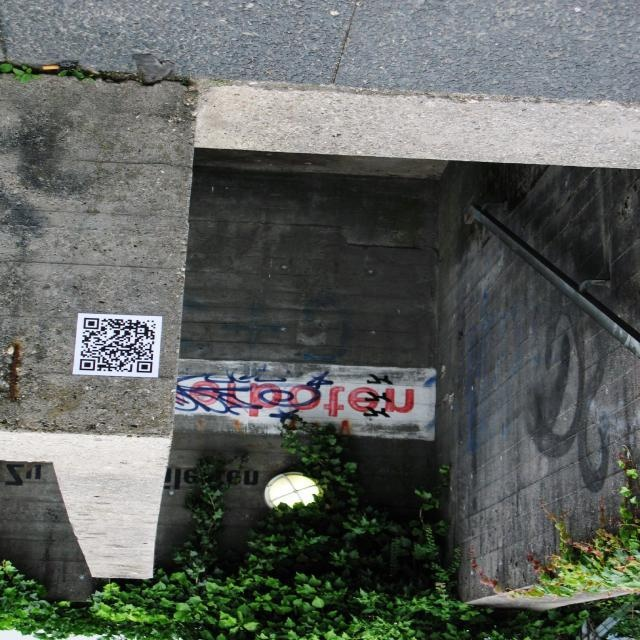qr-code: (79, 318, 156, 373)
